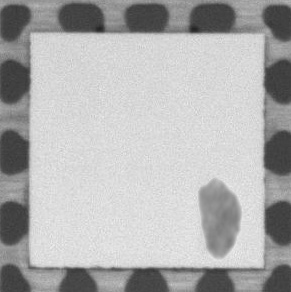DIE_INK: (194, 179, 241, 258)
